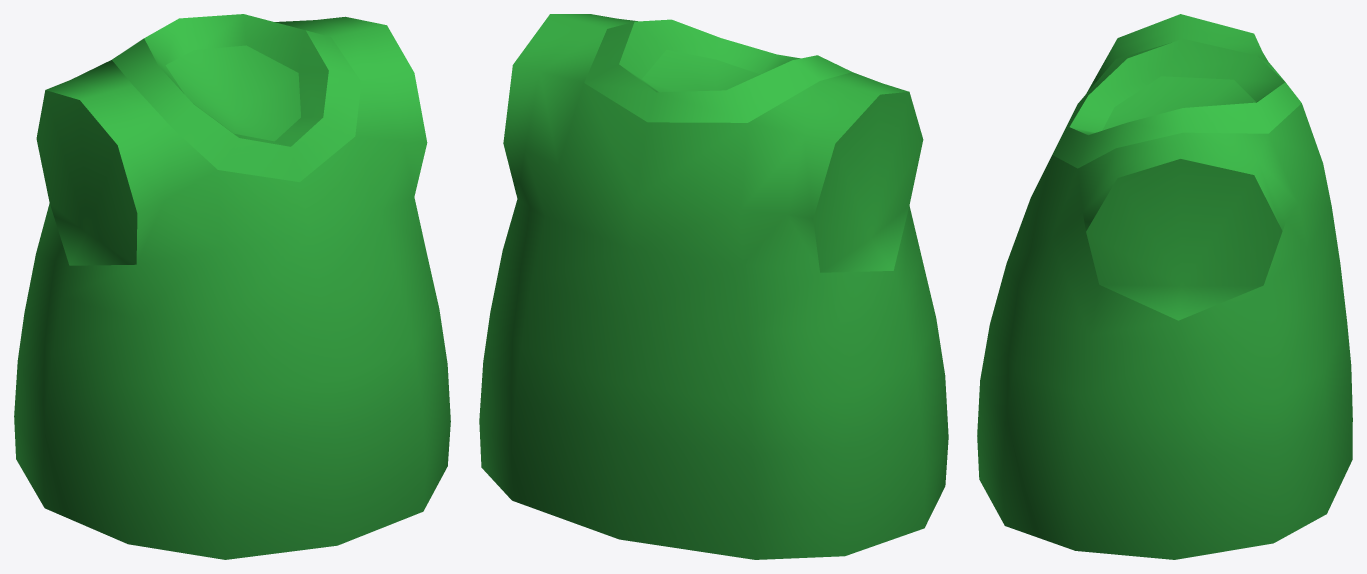
The model's file is Top_61.fbx.
3 renders of one model, left to right at view 1: azimuth 30°, elevation 25°; view 2: azimuth 150°, elevation 25°; view 3: azimuth 270°, elevation 25°, orthographic. The views are drawn at different scales.
Visible parts, largest first — view 1: Top_61; view 2: Top_61; view 3: Top_61.
Part boxes in pixels (x1,y1,x2,y2): Top_61: [14, 14, 450, 559]; Top_61: [479, 14, 948, 559]; Top_61: [977, 14, 1352, 559].
Bounding box in the file's own units: 41 × 42.68 × 35.79.
